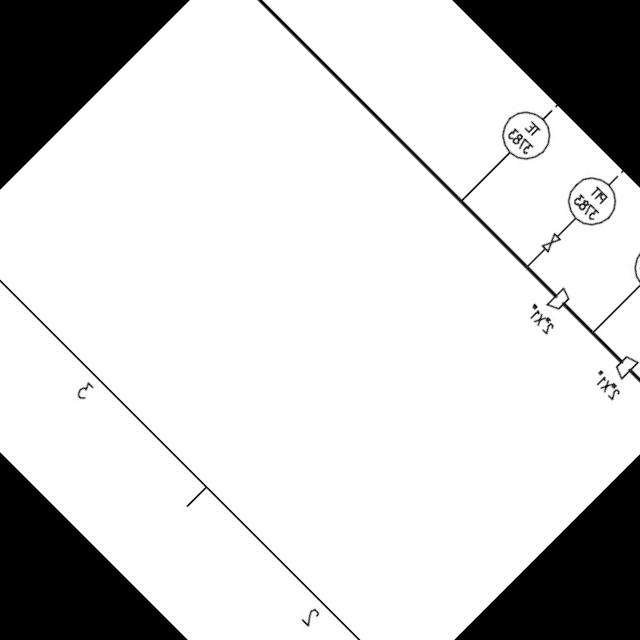GV: (534, 226, 566, 258)
SP: (541, 280, 576, 315), (607, 345, 640, 381)
